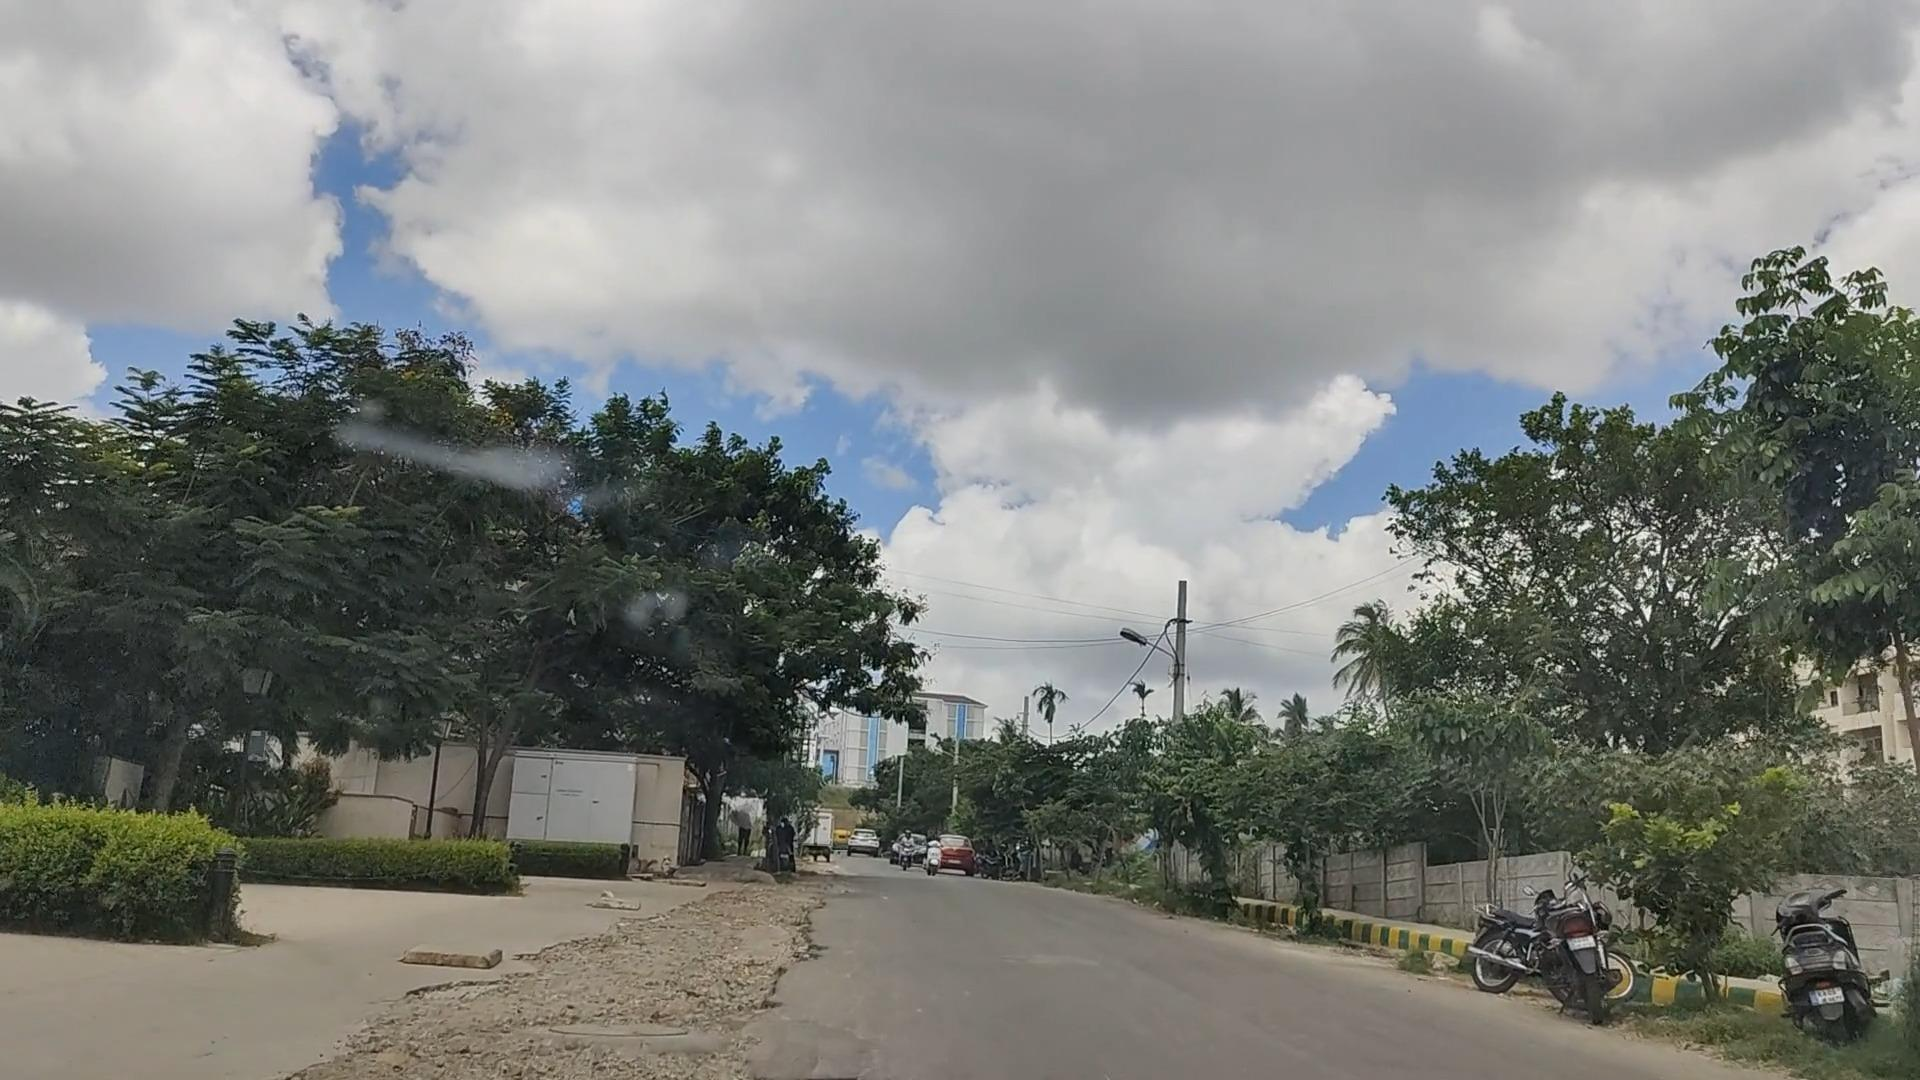RoadDamages: (455, 941, 865, 1080), (744, 872, 924, 960)
